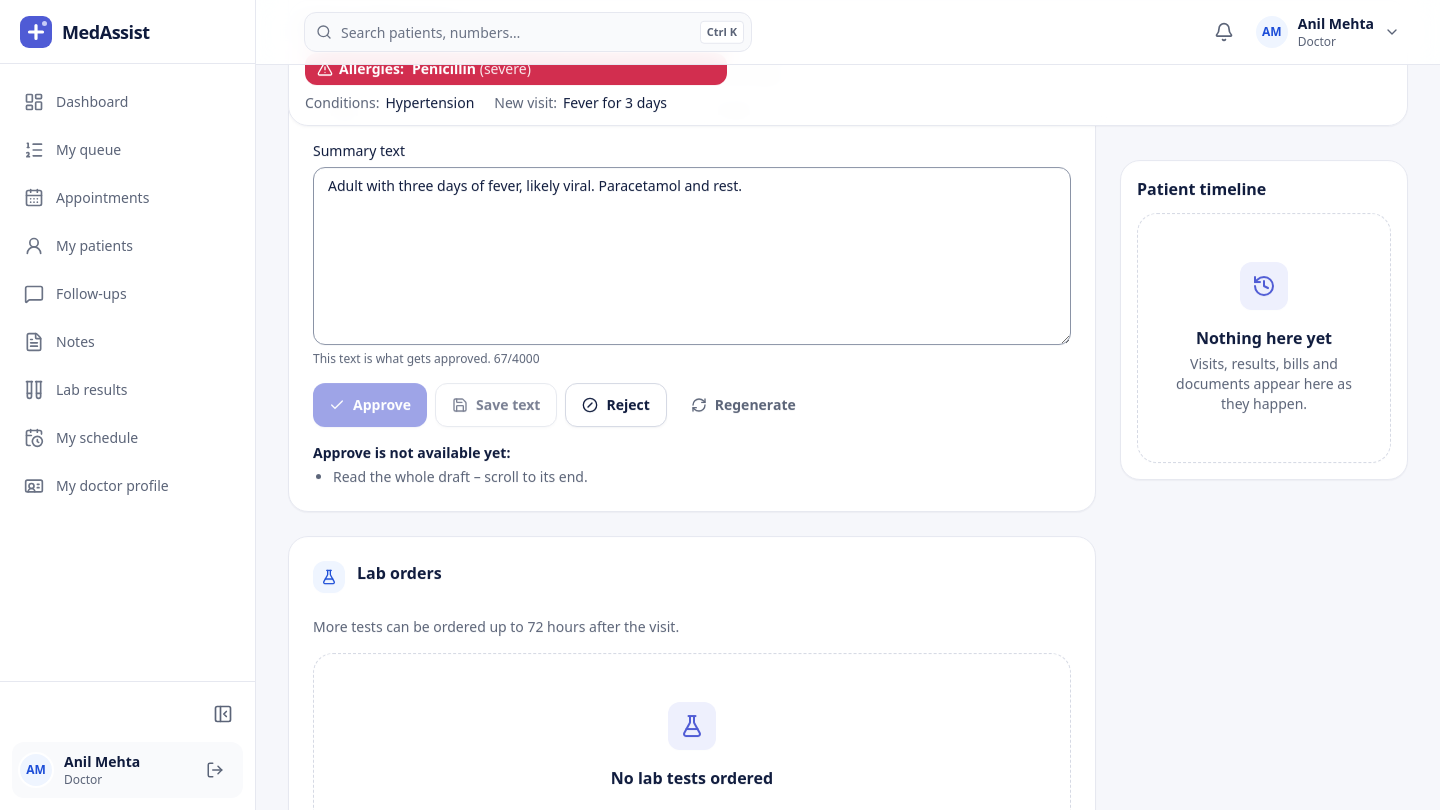
Test: Approve › rejects with a reason
(page scrolled)
Click the button "Reject" at (616, 405), box [565,383,667,427]
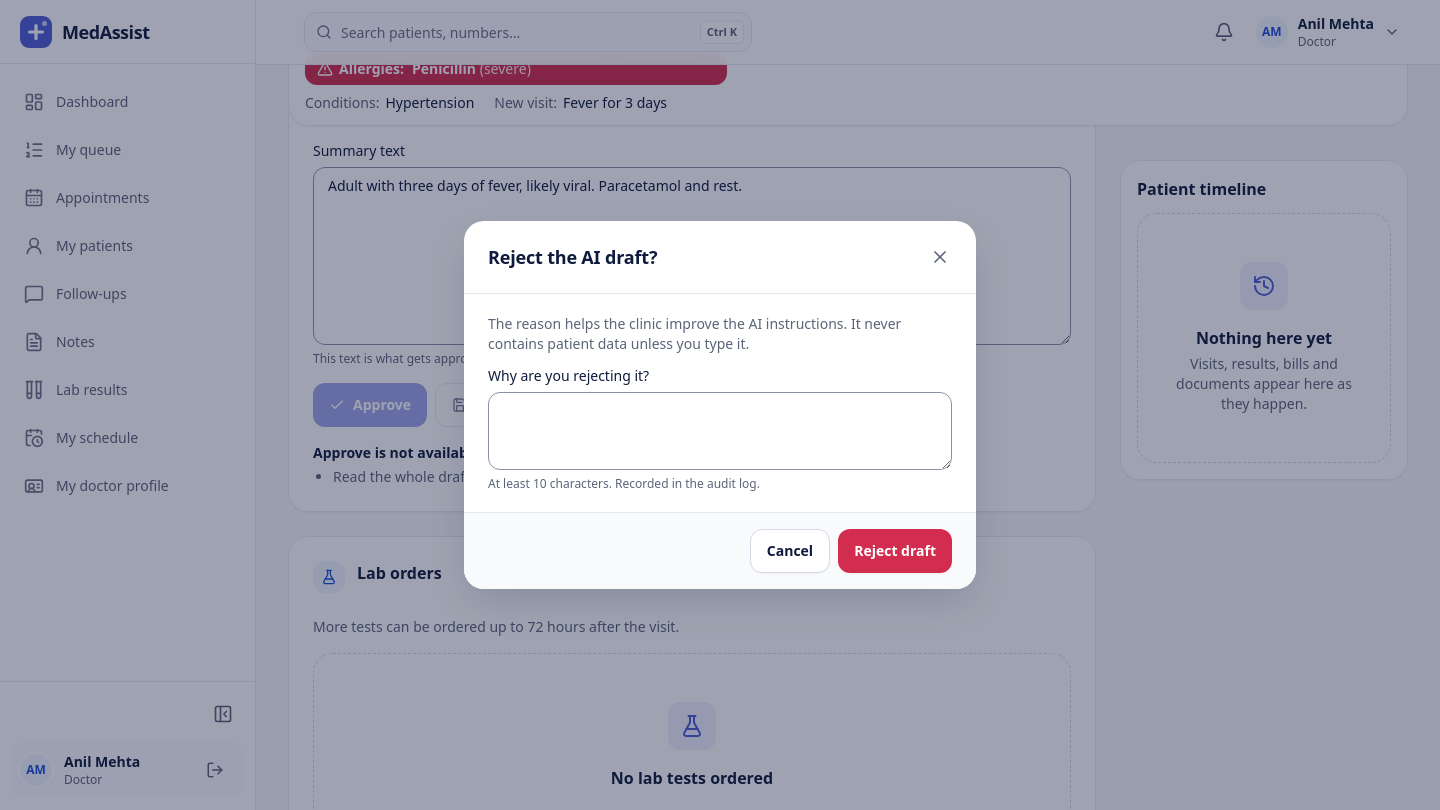
Type "Missed the cough history" into the text box labelled "Why are you rejecting it?" at (720, 431), box [488,392,952,470]
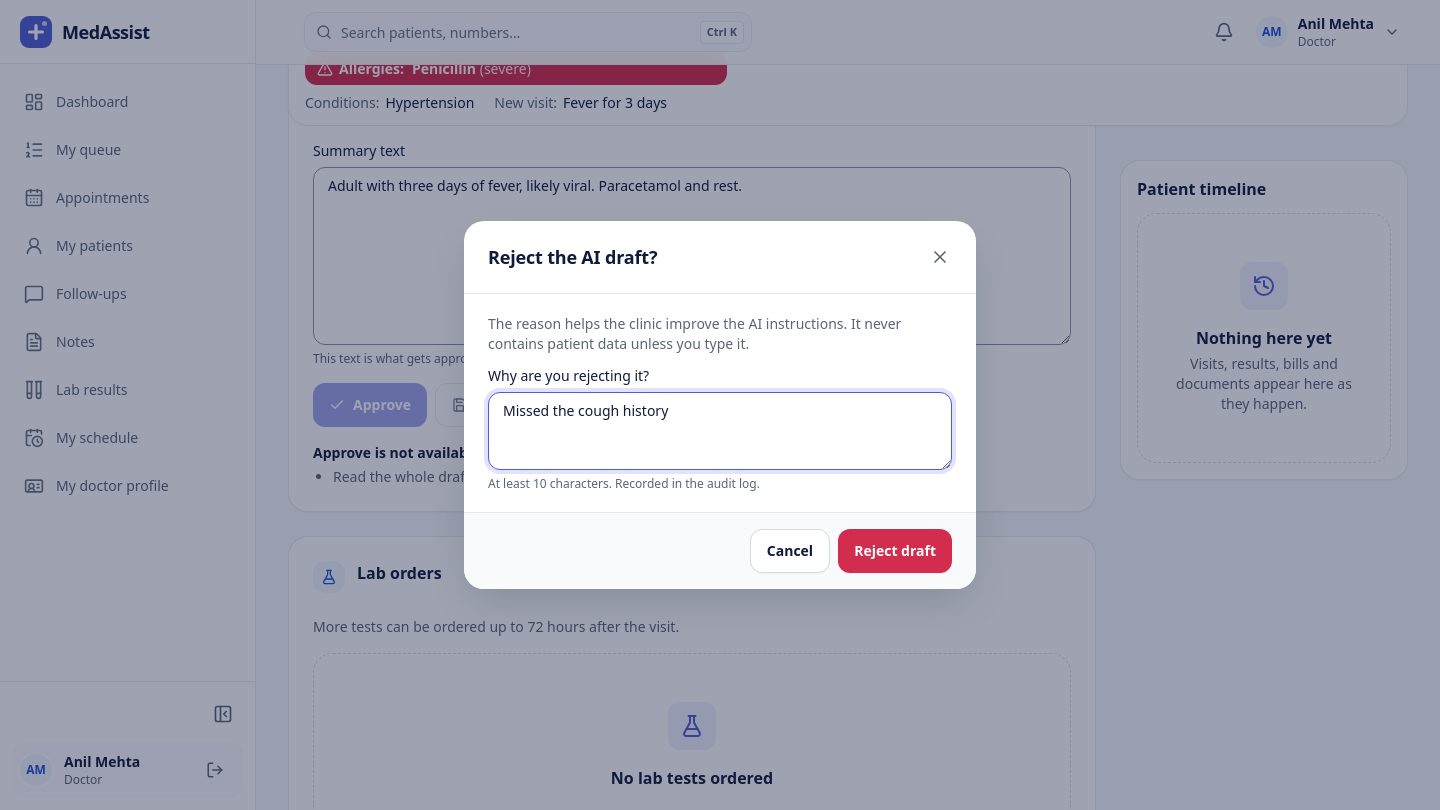
Click the button "Reject draft" at (895, 551), box [838,529,952,573]
(page scrolled)
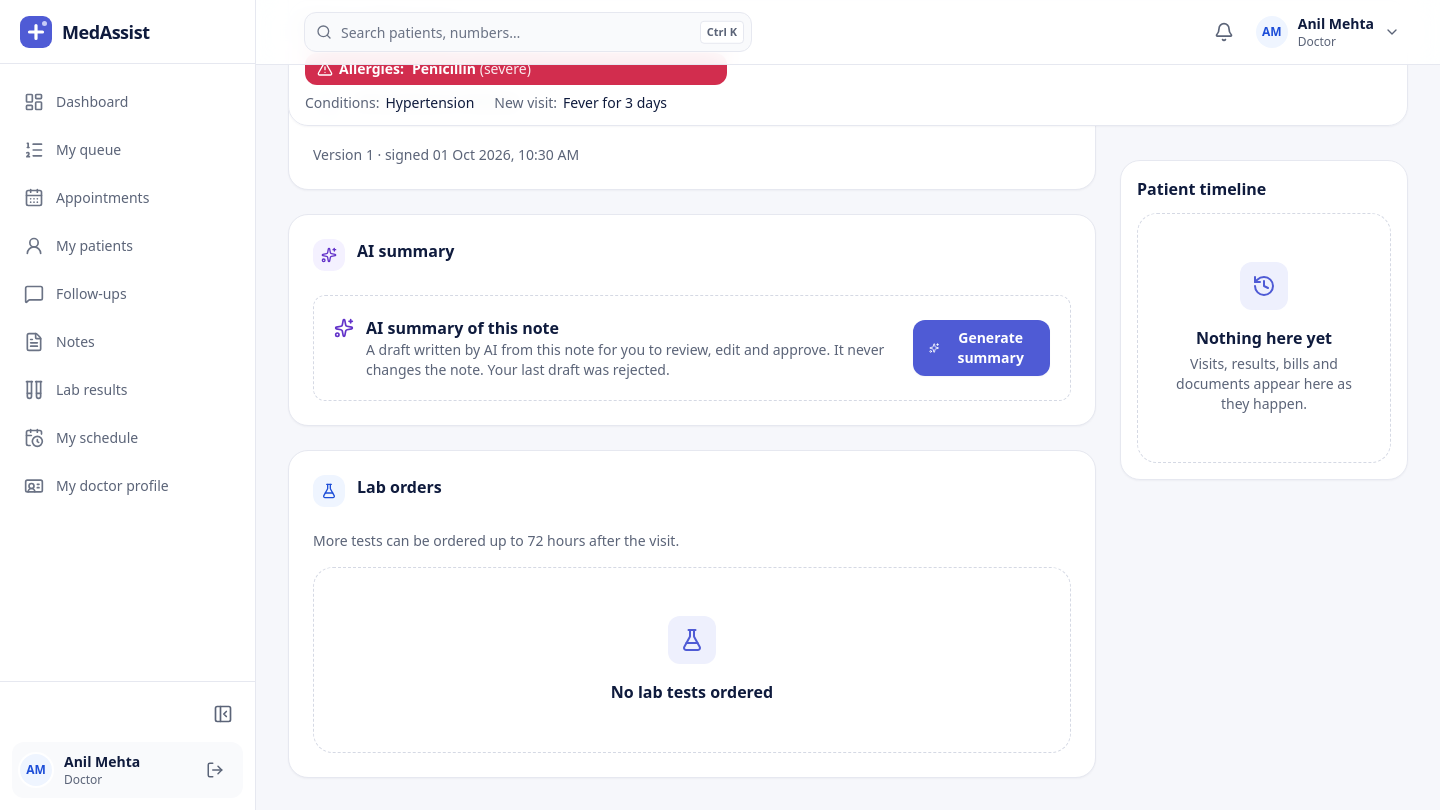
Expected: the text "Your last draft was rejected" is shown, [484,360,670,379]
